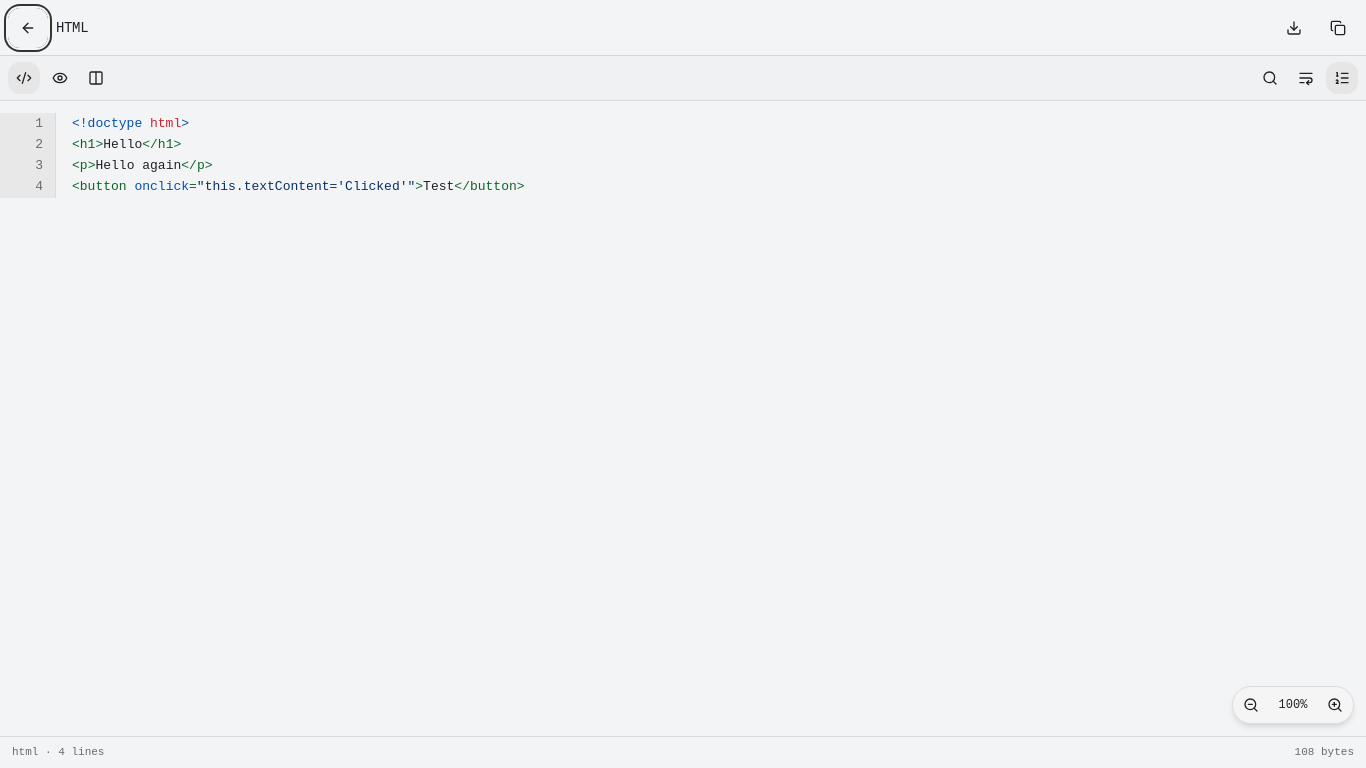
it: Advanced code viewer › opens searchable numbered source and navigates matching lines
Step 1. Click the button named "Find in code" → (1270, 78), box [1254, 62, 1286, 94]
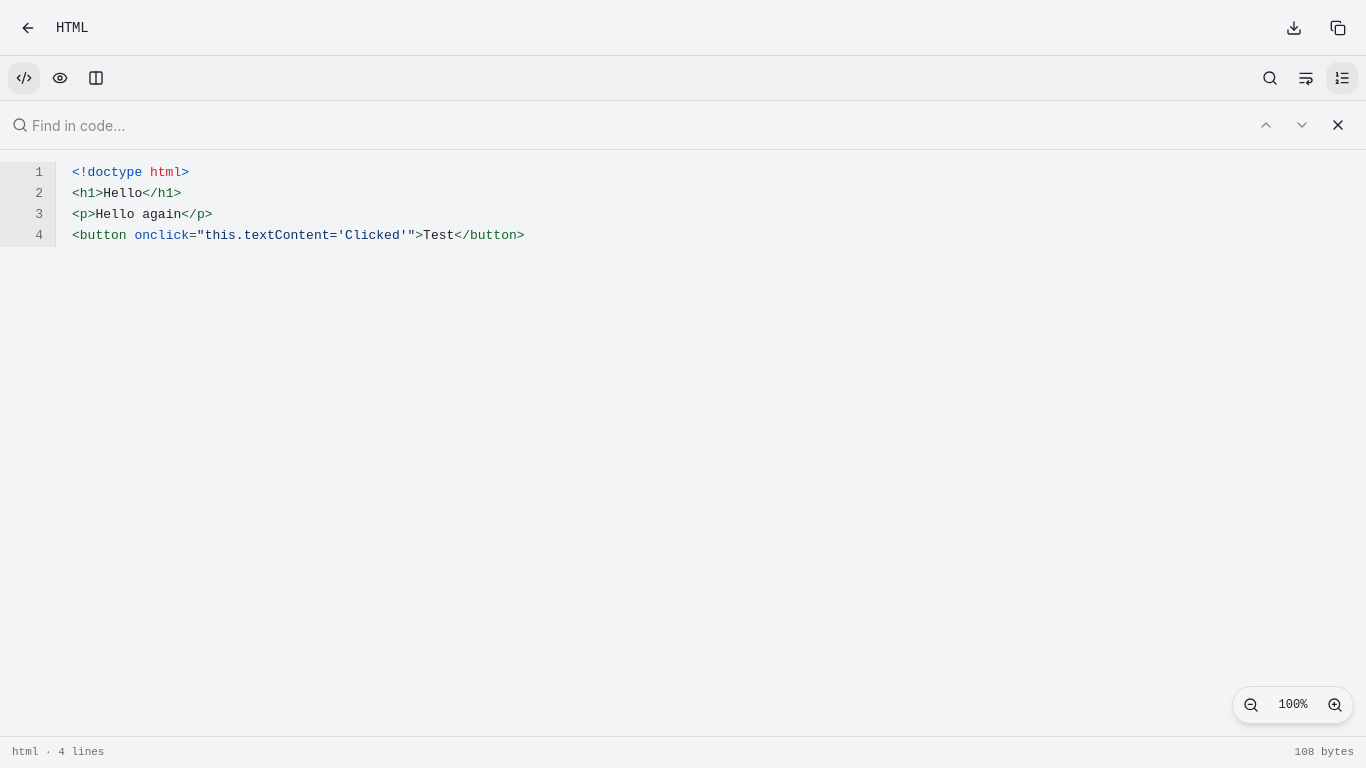
Step 2. Type "hello" into the field named "Search code" → (637, 125), box [32, 109, 1242, 141]
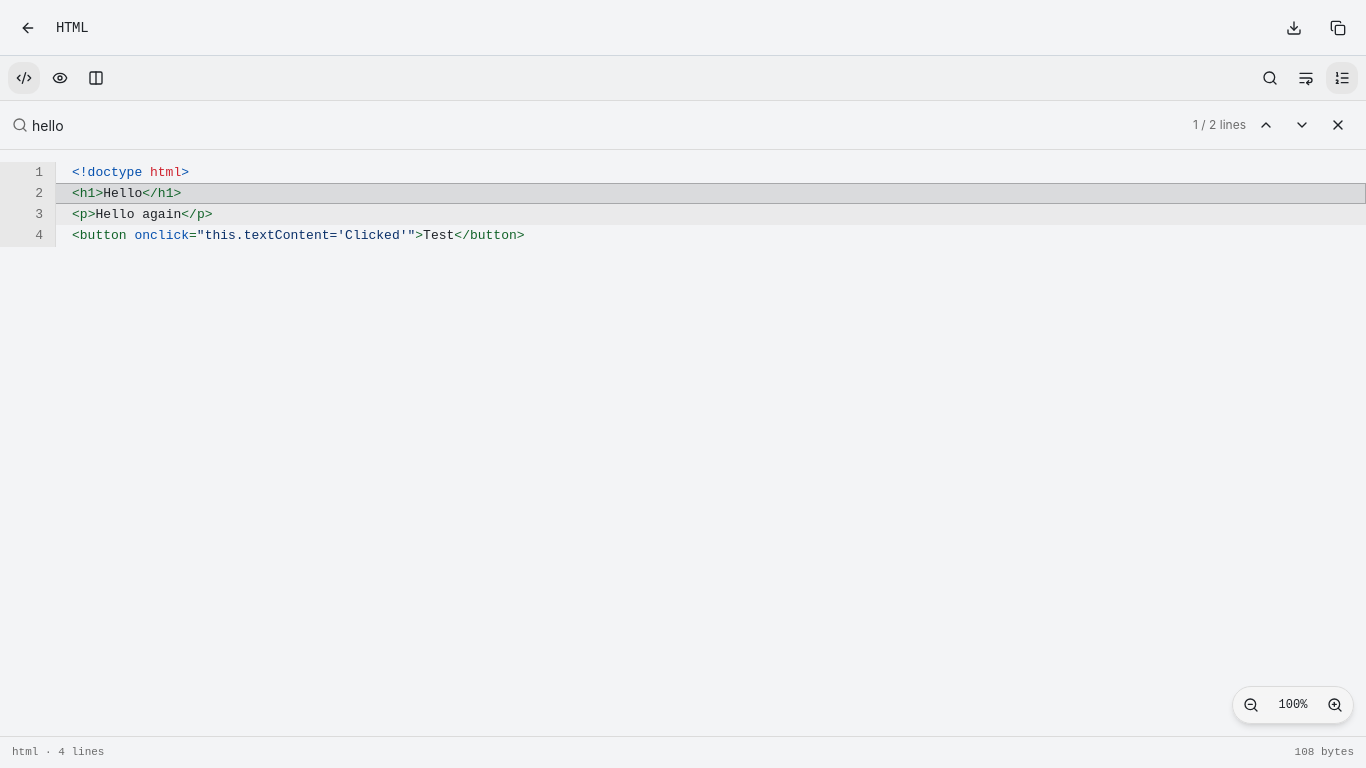
Result: the message reads "1 / 2 lines" at [1193, 117, 1246, 132]
Step 3. Click the button named "Next match" → (1302, 125), box [1286, 109, 1318, 141]
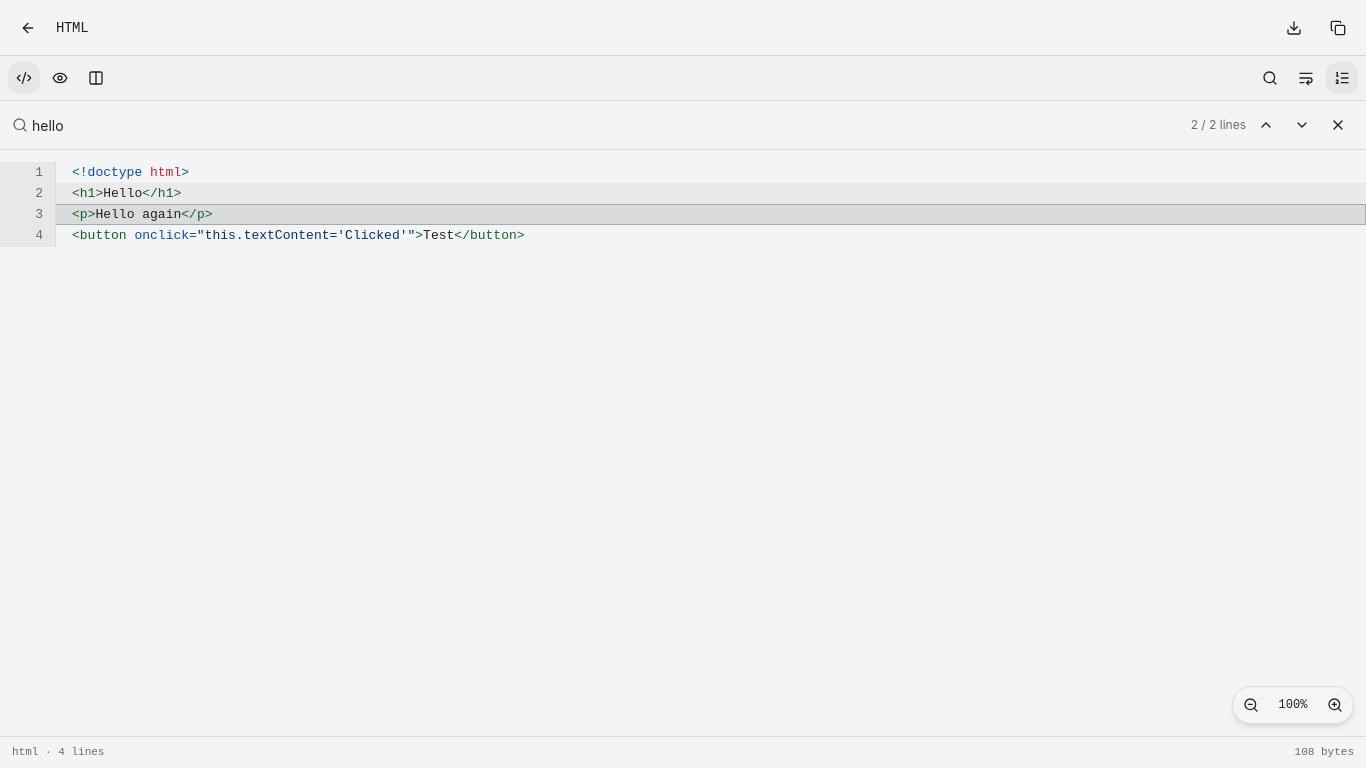
Result: the message reads "2 / 2 lines" at [1191, 117, 1246, 132]
Step 4. Click the button named "Previous match" → (1266, 125), box [1250, 109, 1282, 141]
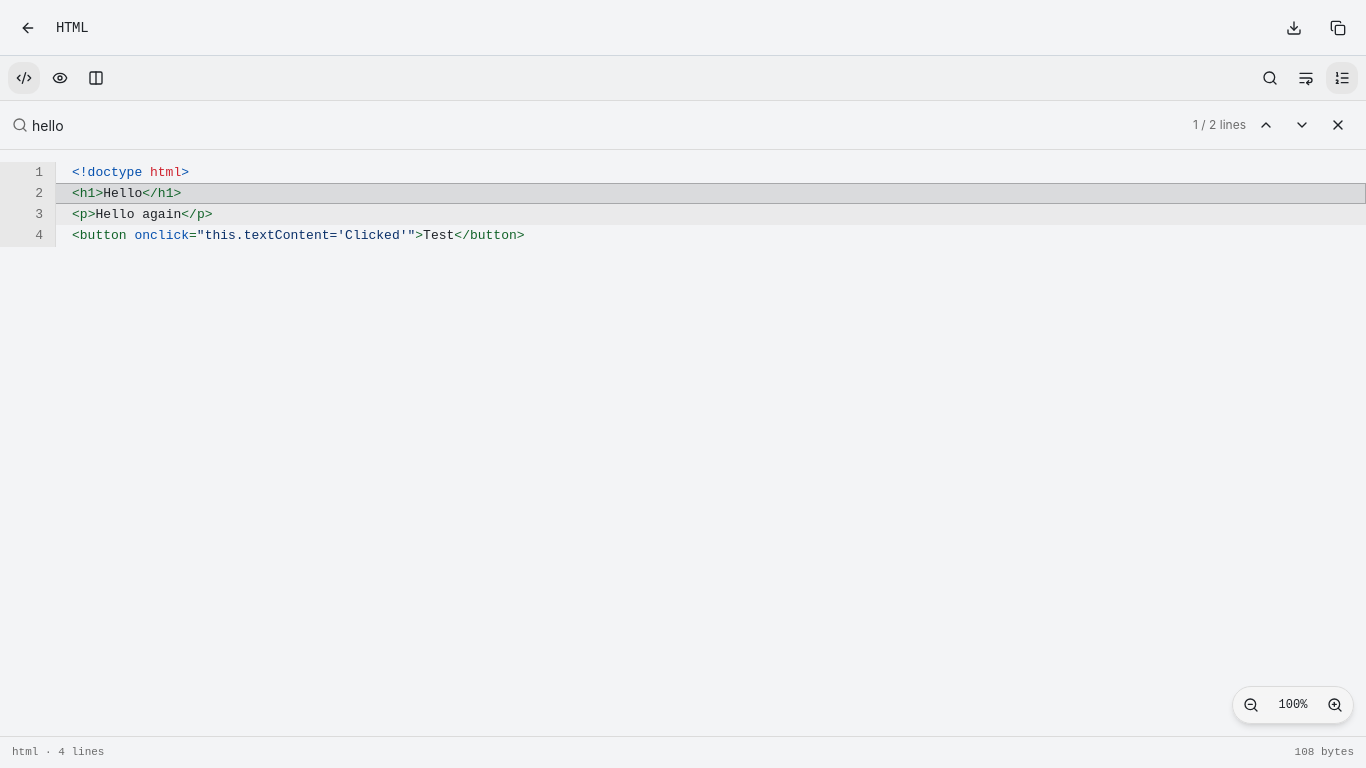
Result: the message reads "1 / 2 lines" at [1193, 117, 1246, 132]
Step 5. Replace the text in the field named "Search code" with "missing" → (611, 125), box [32, 109, 1189, 141]
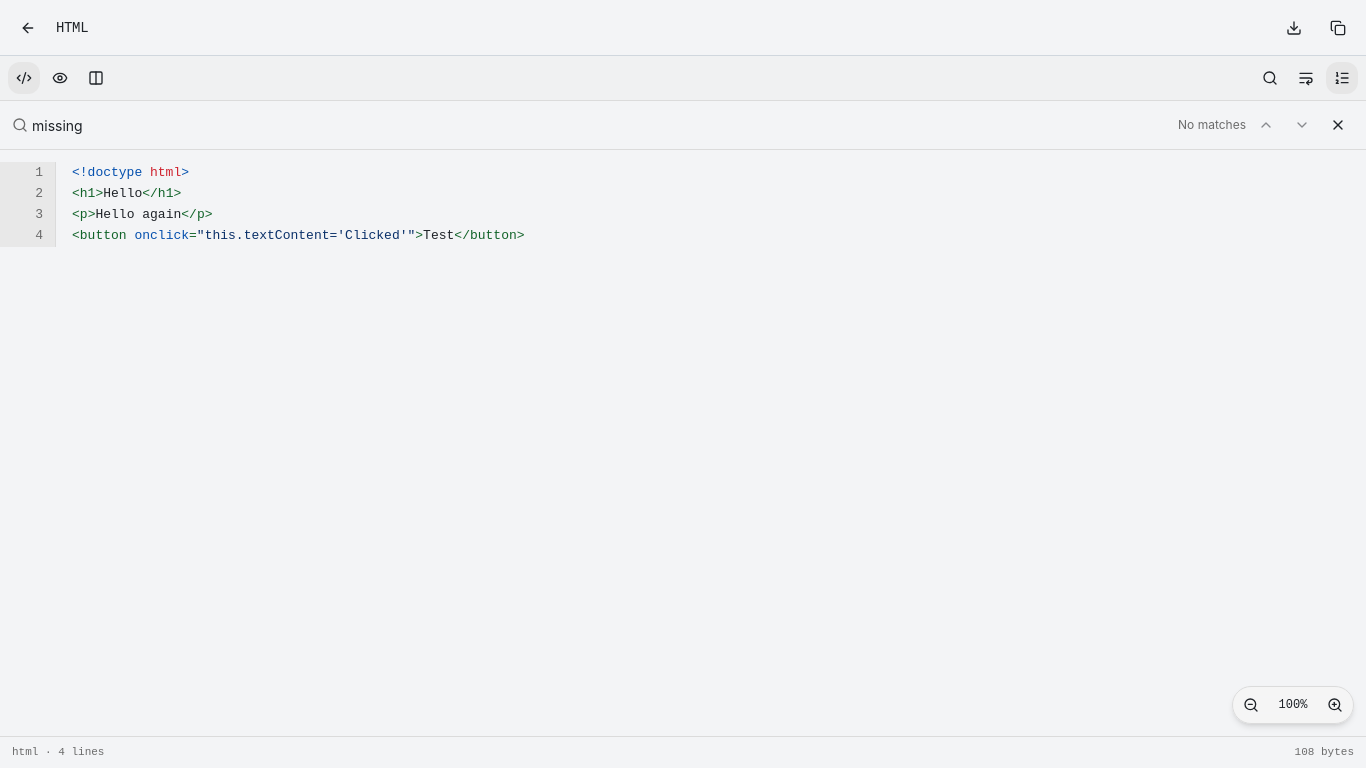
Expected: the button named "Next match" is disabled, [1286, 109, 1318, 141]
Result: the message reads "No matches" at [1178, 117, 1246, 132]
